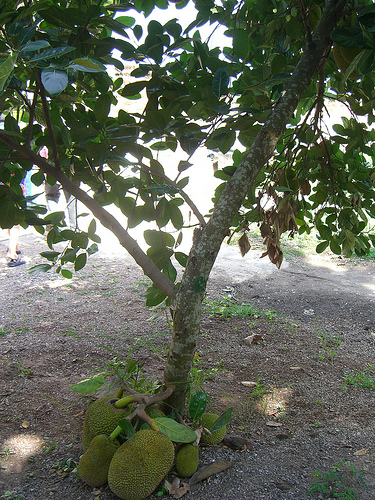jackfruit: (106, 427, 175, 498), (82, 390, 150, 437), (72, 435, 120, 487), (196, 411, 228, 446), (176, 442, 200, 476)
